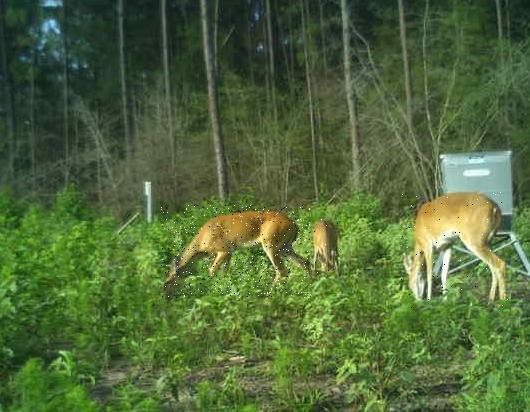Deer: (161, 205, 311, 298), (396, 189, 510, 308), (308, 216, 340, 276)
